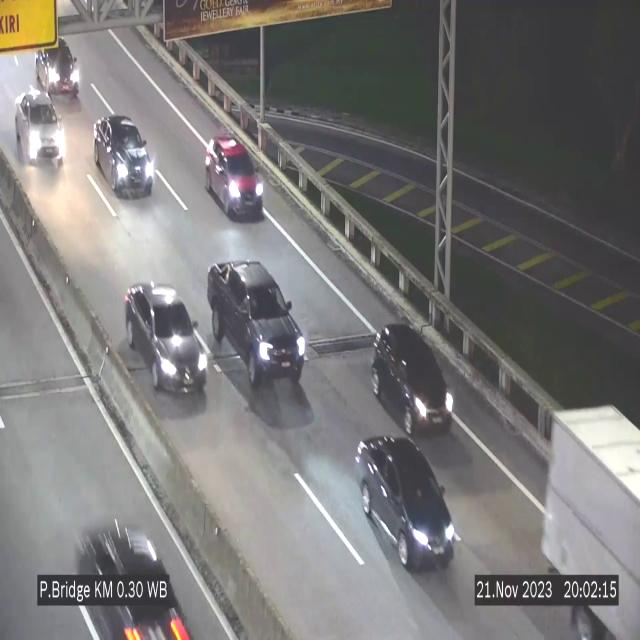Car: (73, 498, 197, 640), (207, 261, 307, 403), (354, 435, 455, 568), (371, 322, 455, 444), (125, 282, 208, 400), (31, 23, 95, 101), (12, 88, 68, 177), (94, 116, 155, 194), (205, 136, 263, 218)
Truck: (538, 375, 640, 640)
